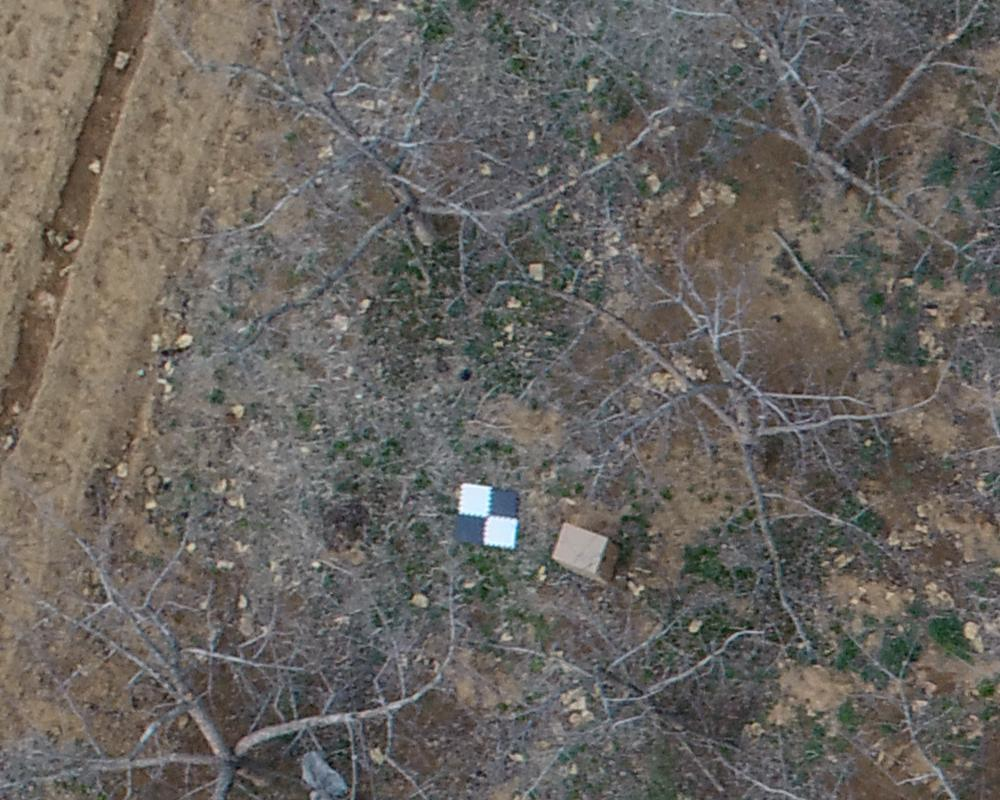apple: (517, 275, 944, 608), (194, 11, 652, 313), (10, 514, 470, 790), (660, 10, 990, 270), (463, 591, 770, 790)
